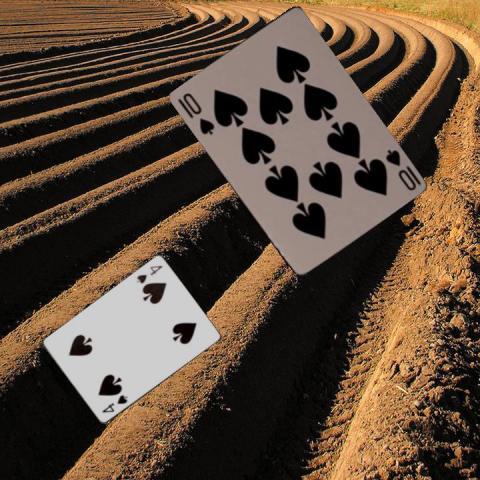10s: (179, 89, 216, 136), (382, 146, 417, 193)
4s: (99, 392, 129, 415), (134, 263, 164, 285)
